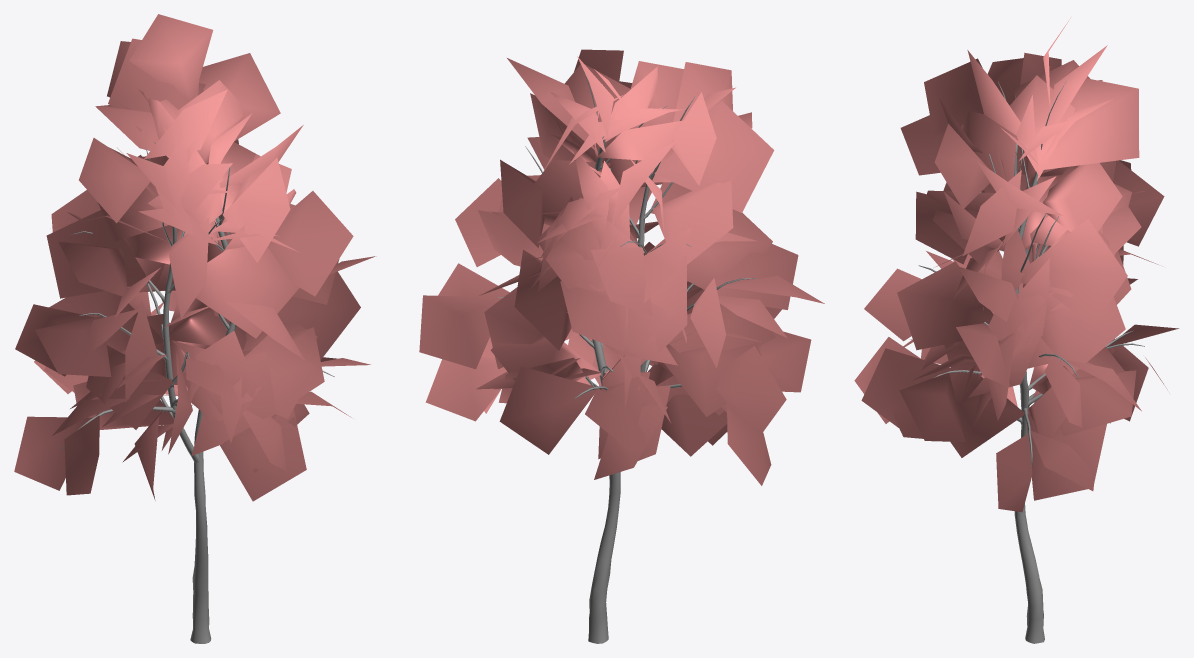
File: Tree_Small_003.gltf
The picture shows the model from 3 angles, left to right: view 1: azimuth 30°, elevation 25°; view 2: azimuth 150°, elevation 25°; view 3: azimuth 270°, elevation 25°; orthographic projection. The views are drawn at different scales.
Parts seen in each view (by area): view 1: Tree_Small_003; view 2: Tree_Small_003; view 3: Tree_Small_003.
Boxes of the visible parts, x1,y1,x2,y2 form: Tree_Small_003: (14, 14, 376, 643); Tree_Small_003: (419, 49, 824, 643); Tree_Small_003: (854, 18, 1178, 643).
Size of the model in its own units: 9.16 by 15.55 by 7.46.
